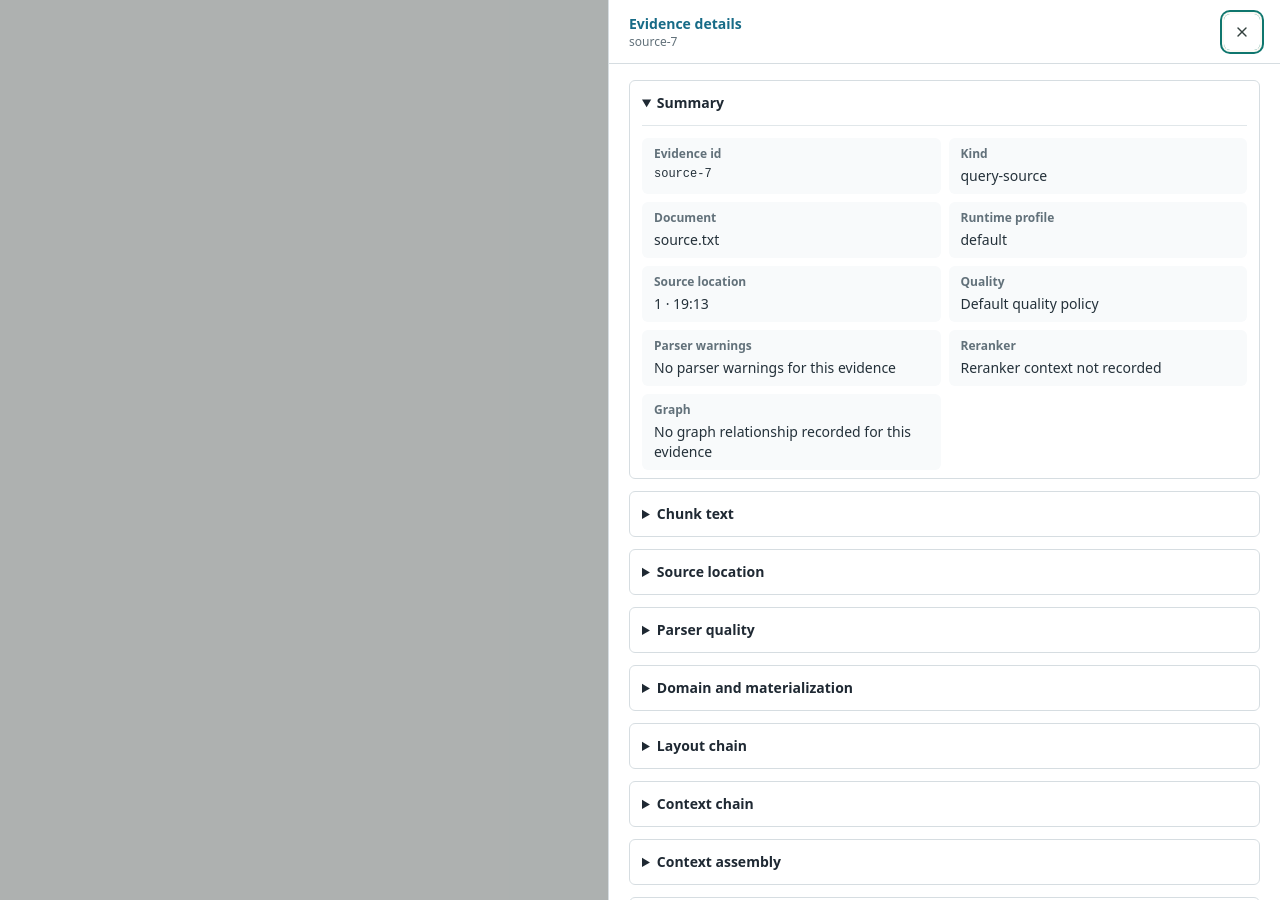
Test: EvidenceViewer › renders layout and context loss warnings when native evidence is not hydrated
Click the heading "Context chain" at (705, 804), box [657, 794, 754, 813]
(page scrolled)
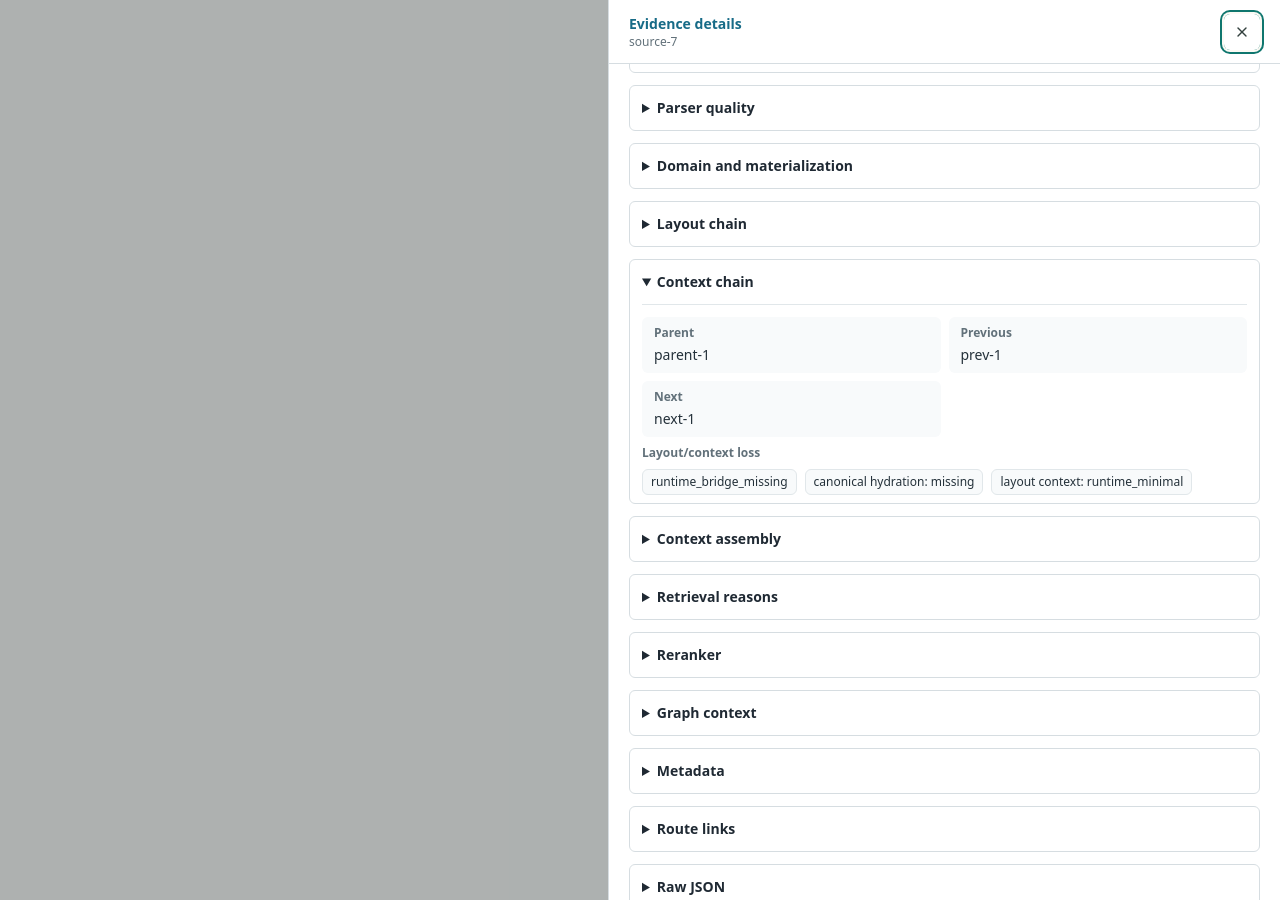
Expected: the text "Layout/context loss" is shown, [642, 444, 760, 461]
Expected: the list item "runtime_bridge_missing" is shown, [642, 469, 796, 495]
Expected: the list item "canonical hydration: missing" is shown, [804, 469, 983, 495]
